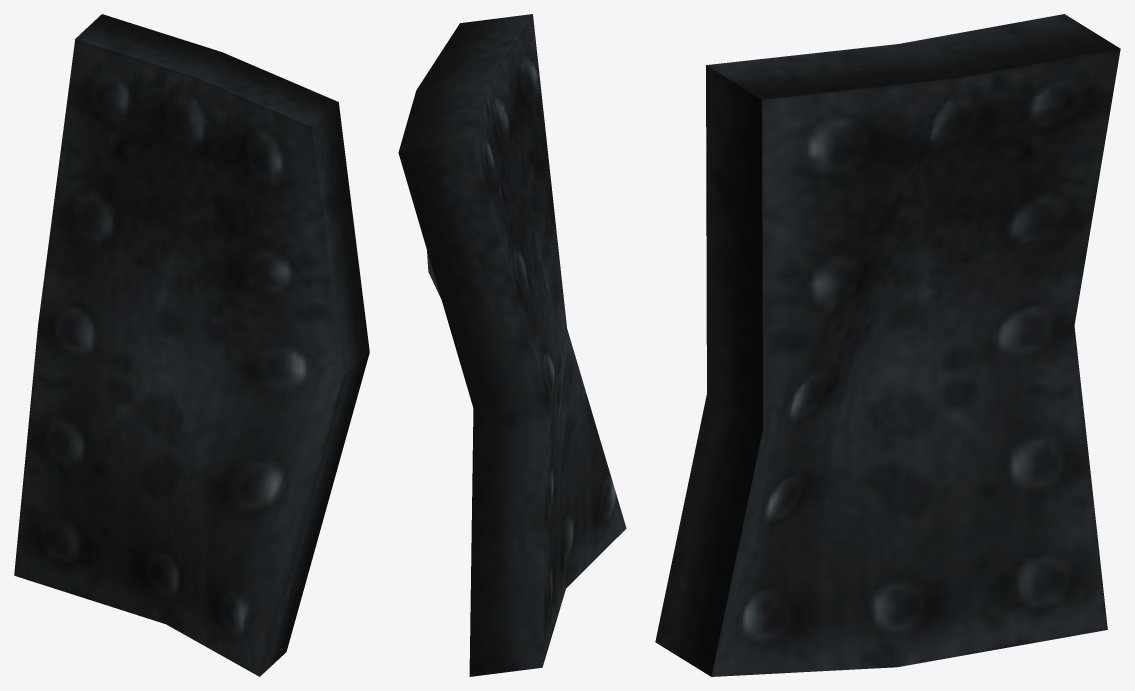
File: wreck01.FBX
3 renders of one model, left to right at view 1: azimuth 30°, elevation 25°; view 2: azimuth 150°, elevation 25°; view 3: azimuth 270°, elevation 25°, orthographic. The views are drawn at different scales.
Visible parts, largest first — view 1: wreck01; view 2: wreck01; view 3: wreck01.
Part boxes in pixels (bbox=[...]): wreck01: bbox=[14, 14, 369, 676]; wreck01: bbox=[398, 14, 626, 676]; wreck01: bbox=[655, 14, 1120, 676].
Size of the model in its own units: 5.63 by 11.91 by 8.03.
